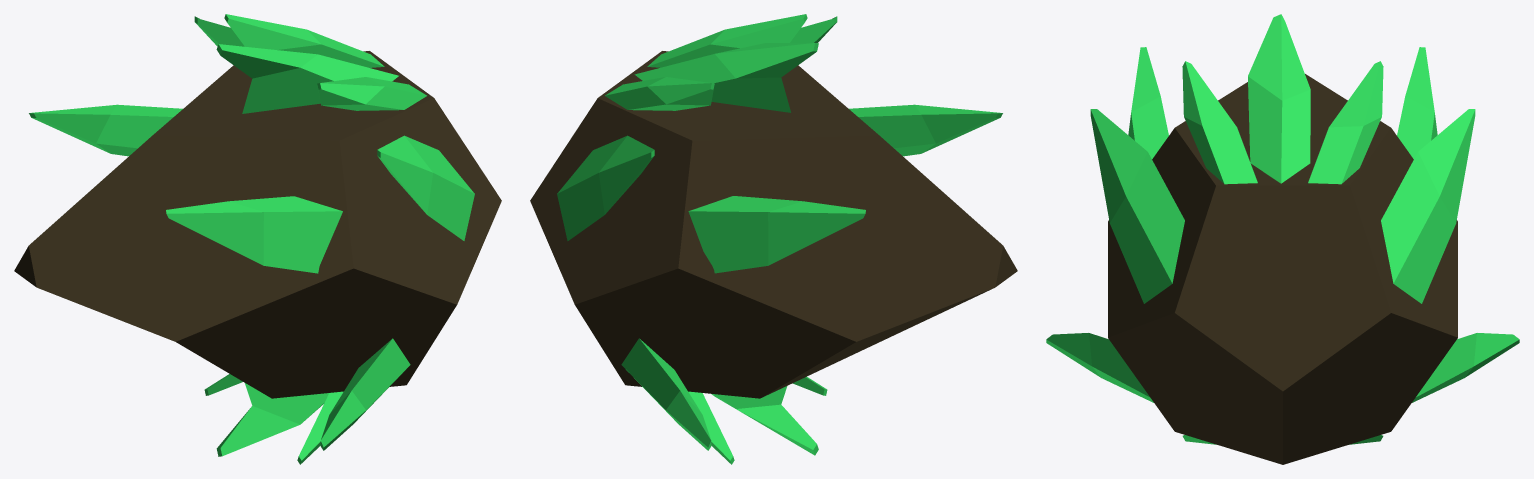
File: meteor.fbx
3 renders of one model, left to right at view 1: azimuth 30°, elevation 25°; view 2: azimuth 150°, elevation 25°; view 3: azimuth 270°, elevation 25°, orthographic. The views are drawn at different scales.
Parts seen in each view (by area): view 1: Meteor; view 2: Meteor; view 3: Meteor.
Boxes of the visible parts, box(x1,y1,x2,y2) form: Meteor: box(14, 14, 501, 464); Meteor: box(530, 14, 1017, 464); Meteor: box(1046, 14, 1519, 464).
Bounding box in the file's own units: 217 × 189 × 190.
